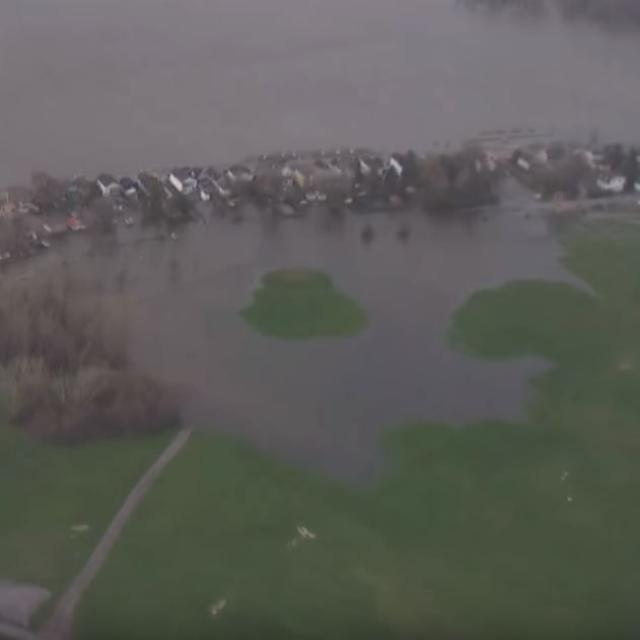flooded_areas: (0, 8, 596, 441)
